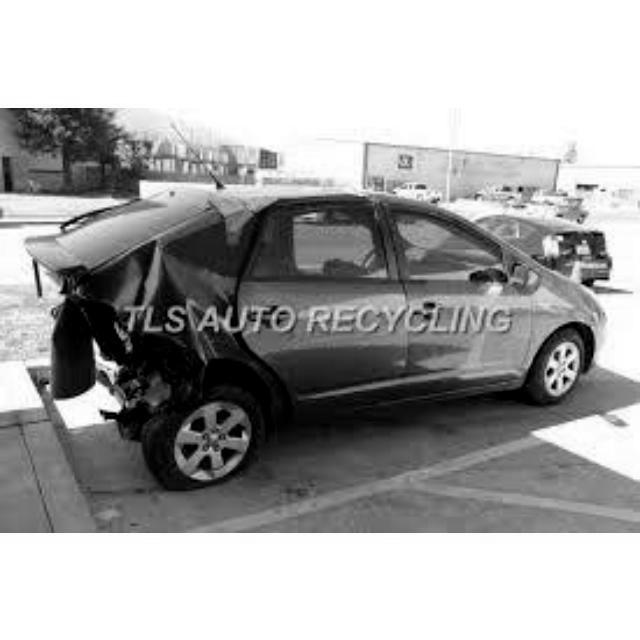doorouter-dent: (424, 298, 526, 384)
rear-bumper-dent: (88, 328, 174, 414)
